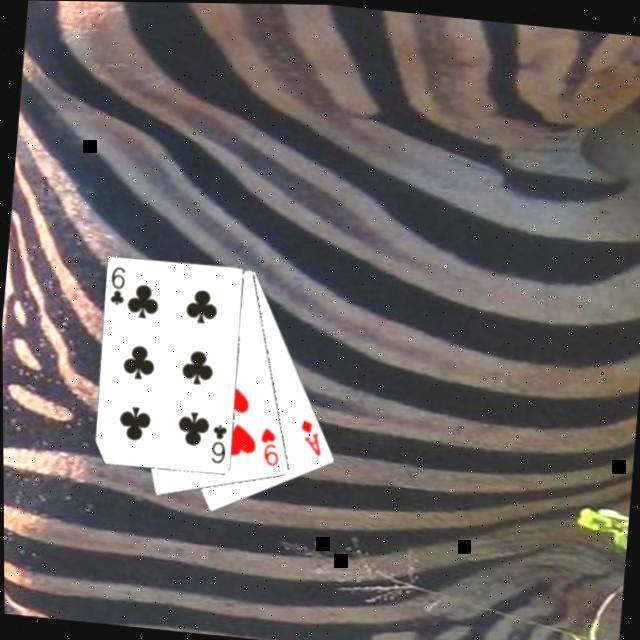6C: (103, 264, 127, 311), (204, 421, 228, 467)
9H: (251, 424, 281, 470)
AD: (292, 415, 324, 459)
